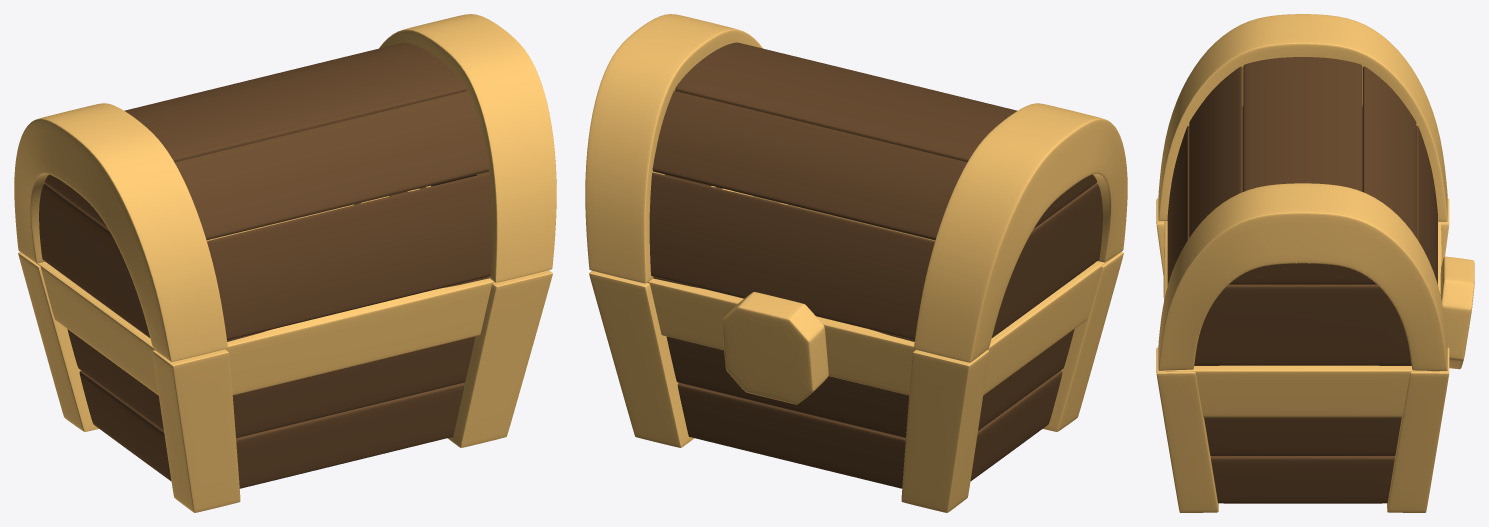
File: chest.fbx
3 views of the same model, side by side, from view 1: azimuth 30°, elevation 25°; view 2: azimuth 150°, elevation 25°; view 3: azimuth 270°, elevation 25° (orthographic). The views are drawn at different scales.
Visible parts, largest first — view 1: Plane.046; view 2: Plane.046; view 3: Plane.046.
Part boxes in pixels (x1,y1,x2,y2): Plane.046: (14, 14, 556, 512); Plane.046: (585, 14, 1127, 512); Plane.046: (1156, 14, 1474, 512).
Size of the model in its own units: 246 by 189 by 166.
